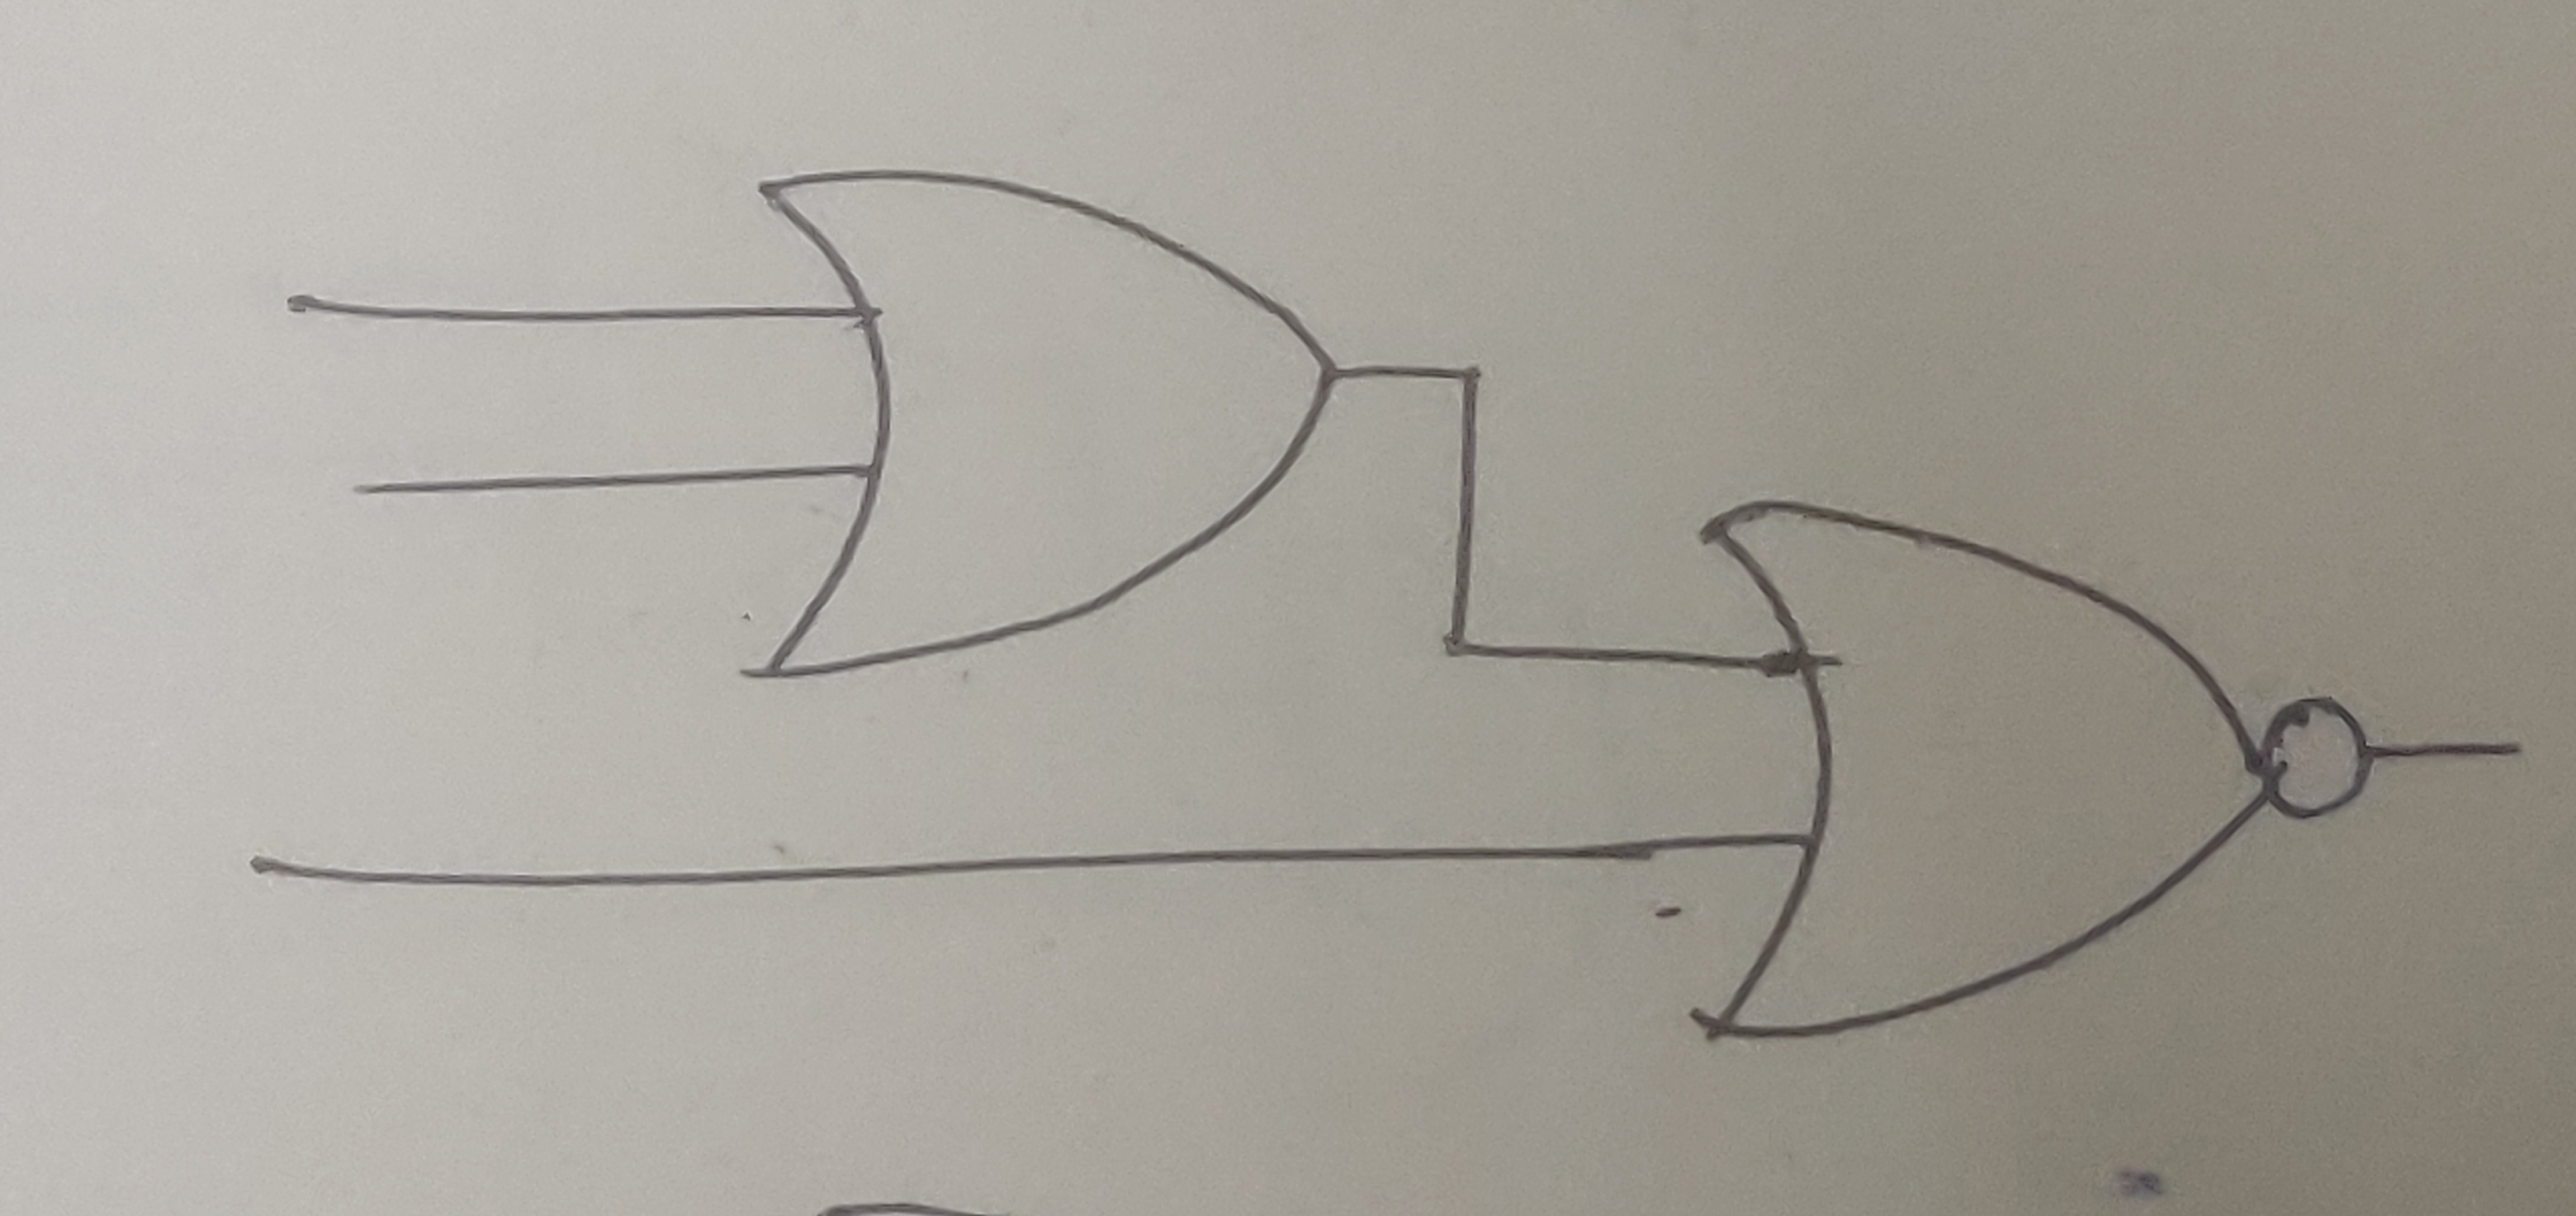not: (2261, 697, 2379, 828)
or: (1689, 493, 2274, 1039), (752, 164, 1344, 680)
